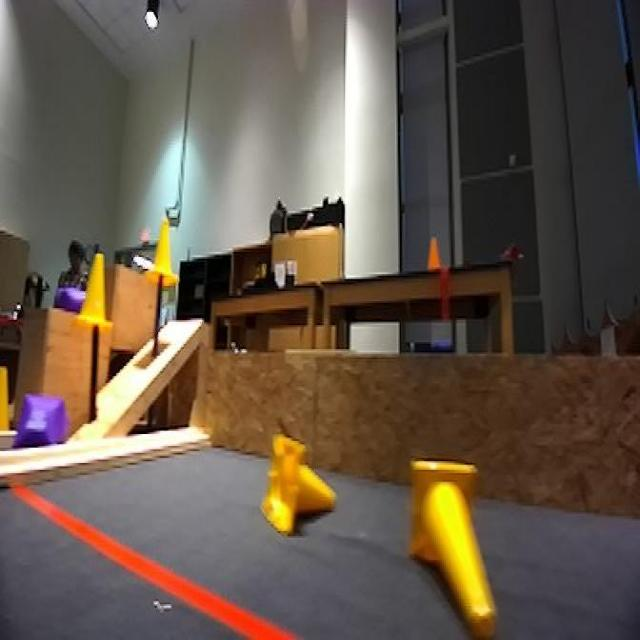frc_cone: (404, 451, 518, 640), (261, 436, 328, 536), (79, 249, 113, 337), (148, 216, 182, 298), (0, 360, 12, 439)
frc_cube: (14, 393, 65, 455), (48, 284, 90, 315)
